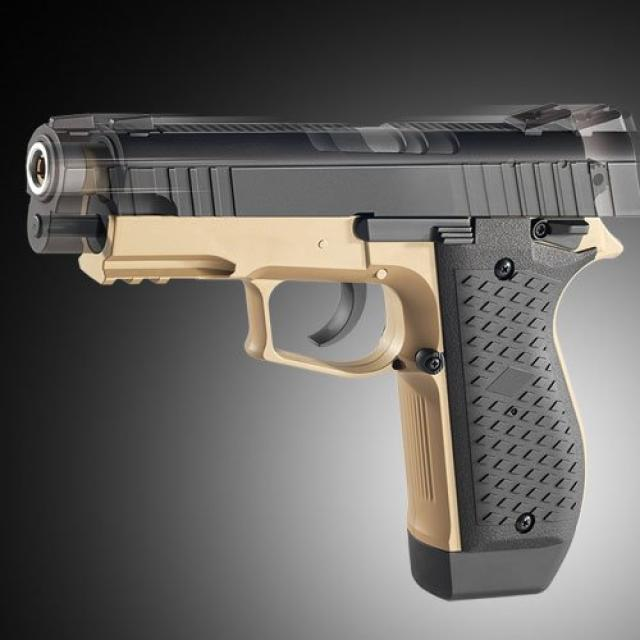HandGun: (23, 102, 640, 604)
